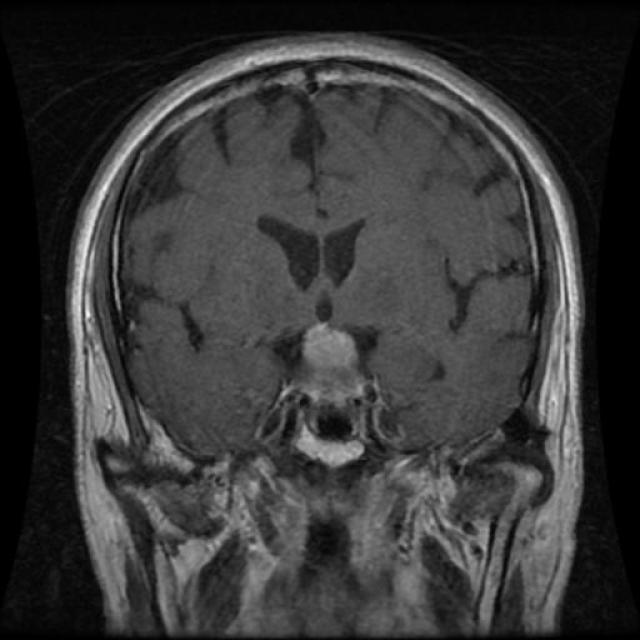pituitary: (276, 320, 386, 468)
